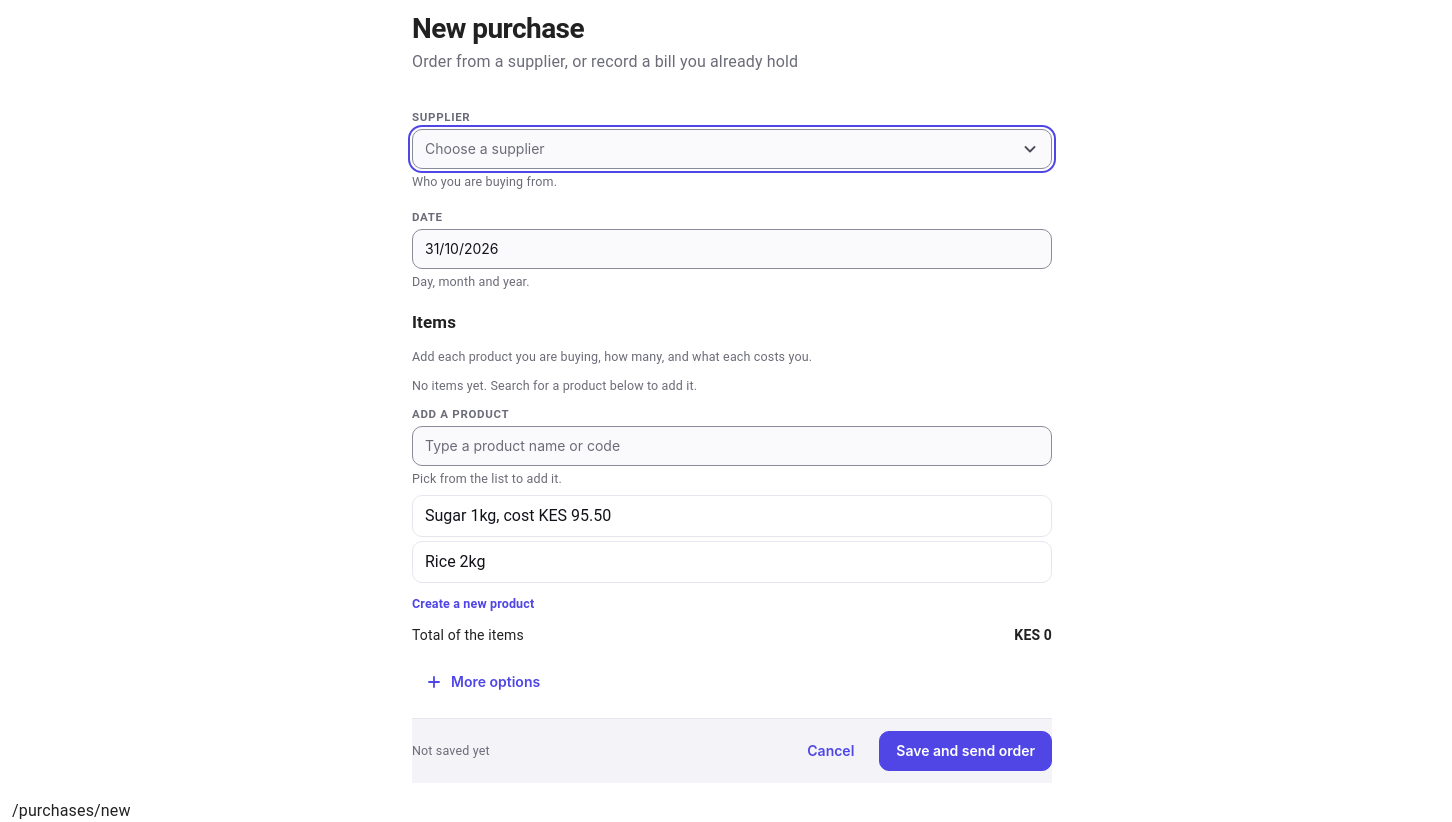
Test: the form (AC-26) › the suppliers are in the chooser
The image size is (1452, 822).
Click the dropdown labelled "Choose a supplier".
click(485, 149)  # box [412,128,1052,168]
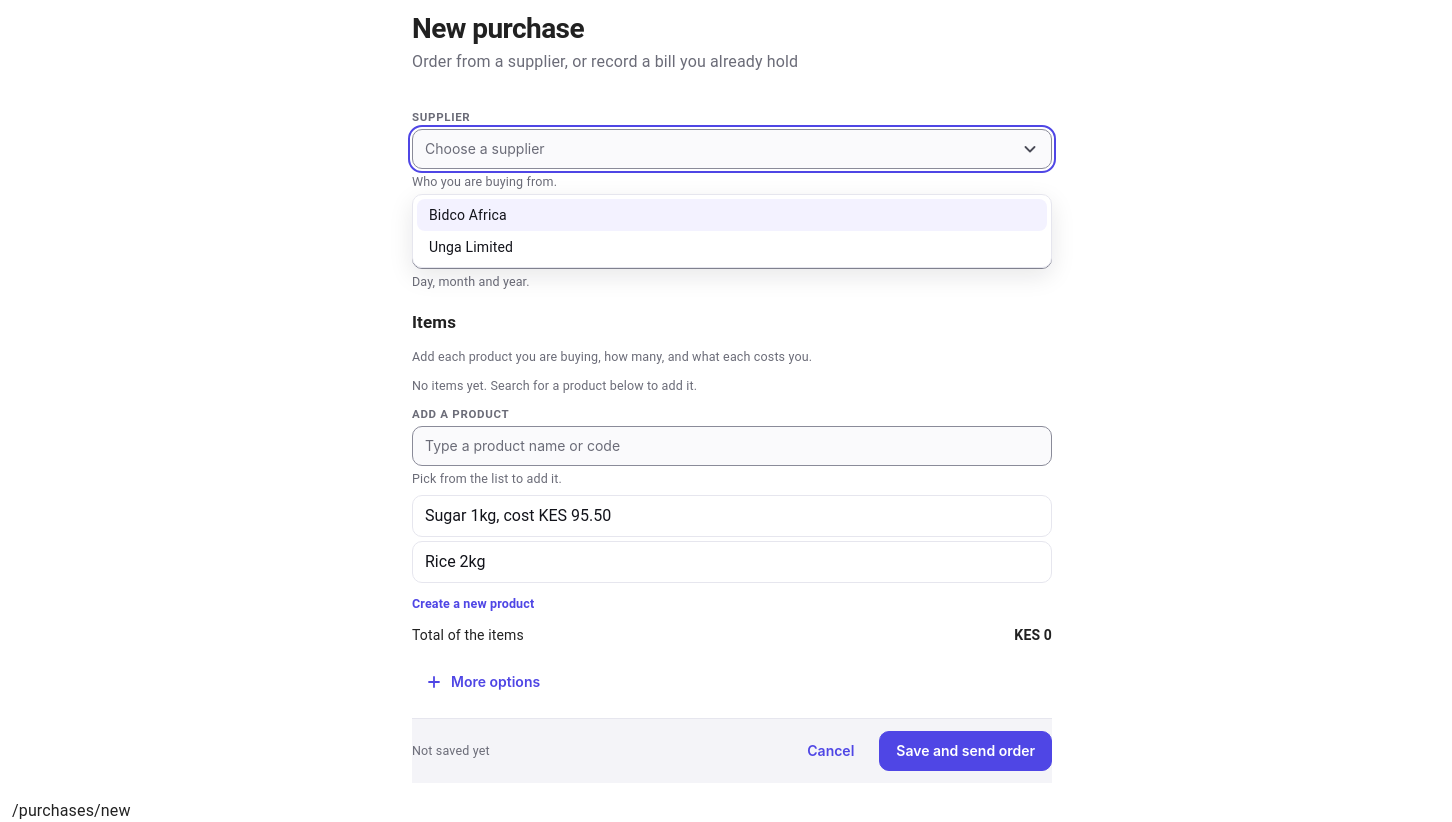
Check: the options read "Bidco Africa", "Unga Limited", in this order, box [417,199,1047,231]; [429,238,513,254]
